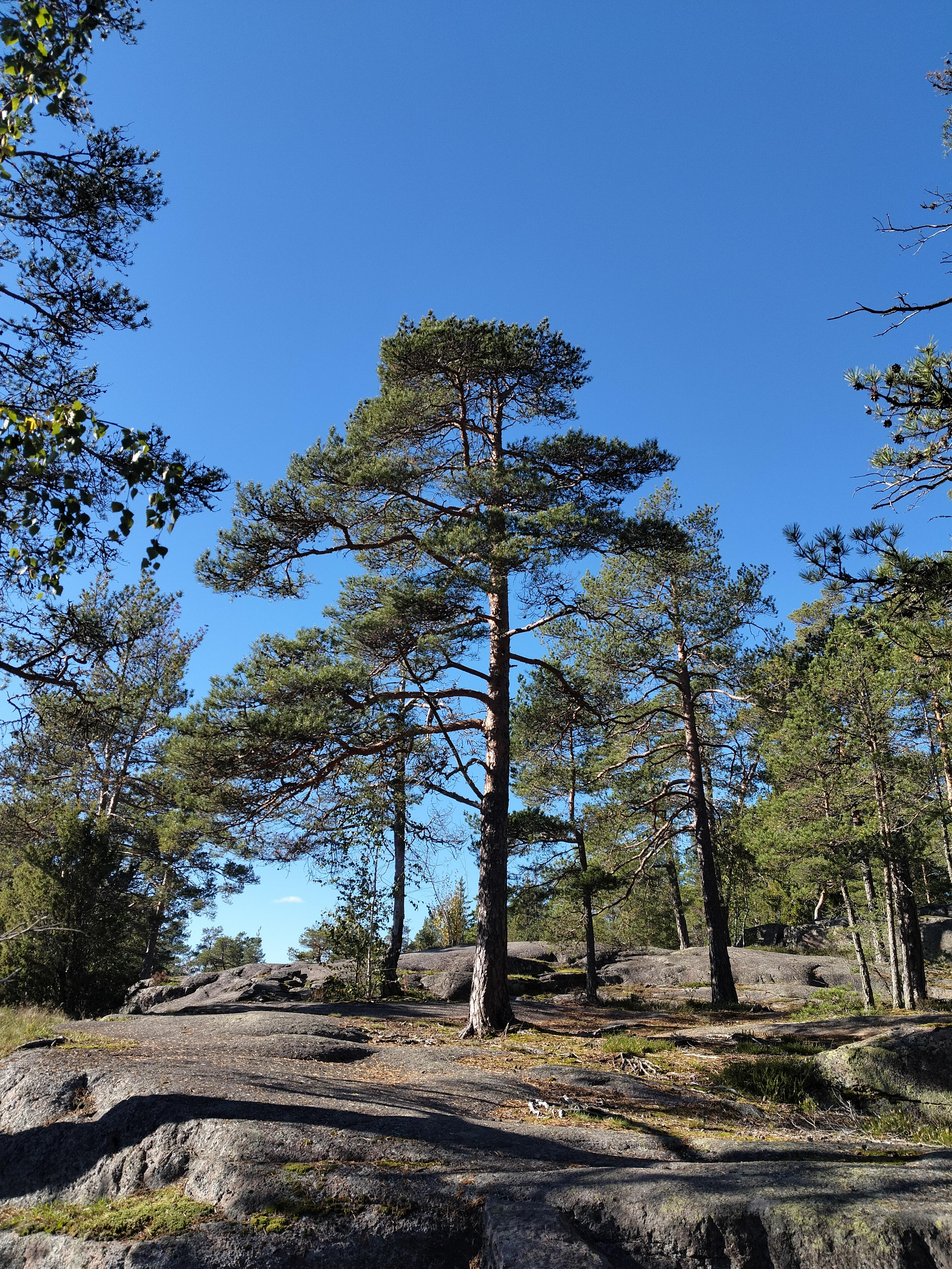Pine: (186, 307, 694, 1038)
